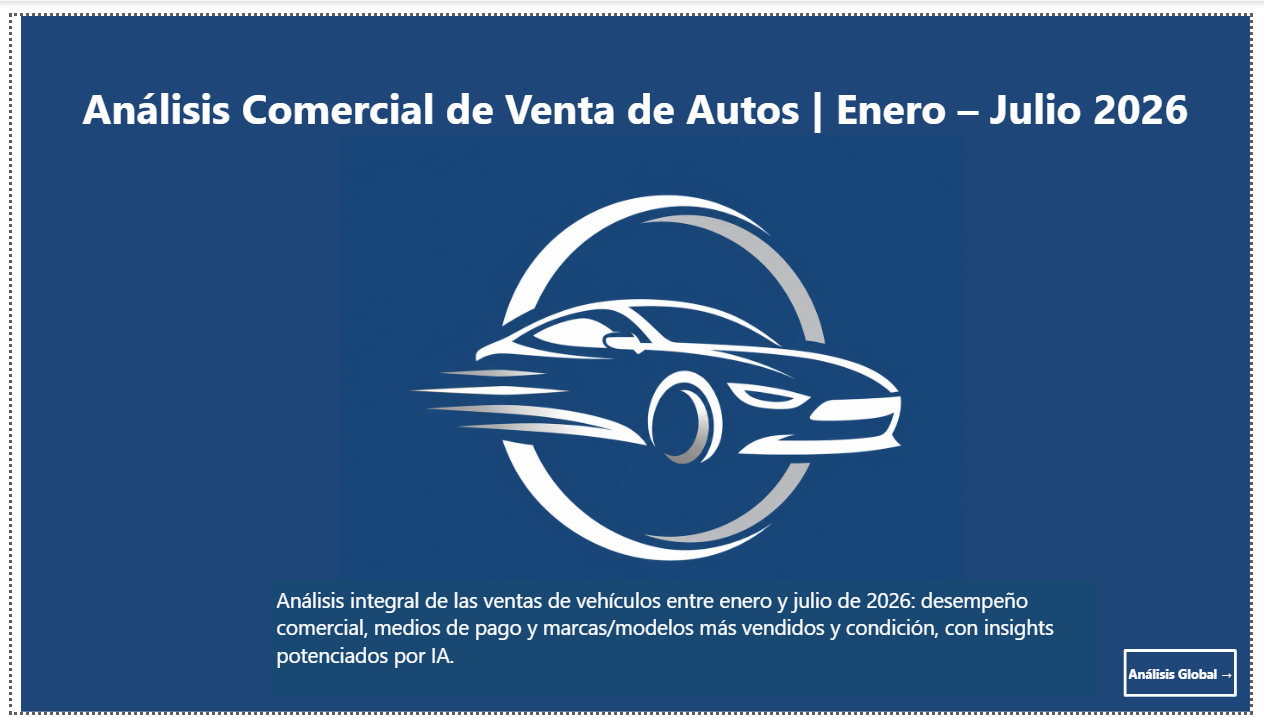

The dashboard page shown, as its layout file describes it:
{"tool":"powerbi","page":{"name":"Portada","canvas":[1280,720],"ordinal":0},"visuals":[{"type":"textbox","box":[9.1,0,1270.4,719.2],"z":0},{"type":"textbox","box":[9.1,60.6,1270.4,125.7],"z":1000},{"type":"image","box":[290,122.5,744.4,485.4],"z":2000},{"type":"actionButton","box":[1149.6,655.2,117.1,49.6],"z":3000},{"type":"textbox","box":[268.3,583.1,856.1,121],"z":4000}]}

Visuals, with their boxes in screenshot pixels (x1, y1, x2, y2), scaled from the page's 1280x720 canvas onto the 1264x718 screenshot:
textbox: left=9, top=0, right=1263, bottom=717
textbox: left=9, top=60, right=1263, bottom=186
image: left=286, top=122, right=1021, bottom=606
actionButton: left=1135, top=653, right=1251, bottom=703
textbox: left=265, top=581, right=1110, bottom=702
